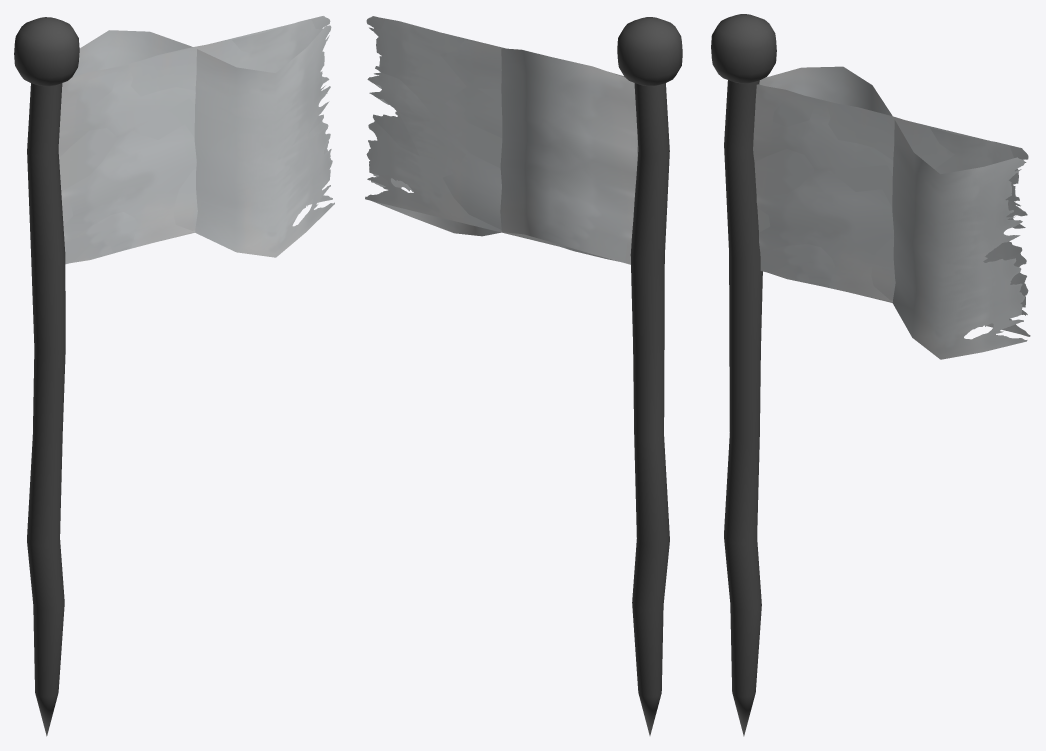
The model's file is mdlWhiteFlag.fbx.
3 renders of one model, left to right at view 1: azimuth 30°, elevation 25°; view 2: azimuth 150°, elevation 25°; view 3: azimuth 330°, elevation 25°, orthographic.
Visible parts, largest first — view 1: FlagWave, Pole, FlagBendy, Flag; view 2: FlagWave, Pole, Flag, FlagBendy; view 3: FlagWave, Pole, FlagBendy, Flag.
Boxes of the visible parts, bbox=[...] form: FlagWave: bbox=[72, 25, 334, 257]; Pole: bbox=[14, 17, 79, 736]; FlagBendy: bbox=[58, 16, 332, 262]; Flag: bbox=[59, 16, 331, 264]; FlagWave: bbox=[371, 48, 637, 264]; Pole: bbox=[617, 17, 682, 735]; Flag: bbox=[365, 16, 638, 257]; FlagBendy: bbox=[365, 16, 624, 261]; FlagWave: bbox=[759, 66, 1027, 359]; Pole: bbox=[711, 14, 776, 736]; FlagBendy: bbox=[753, 84, 1029, 336]; Flag: bbox=[754, 84, 1030, 336].
Bounding box in the file's own units: 1.01 × 2.19 × 0.1963.
1 material, 1 textured.
